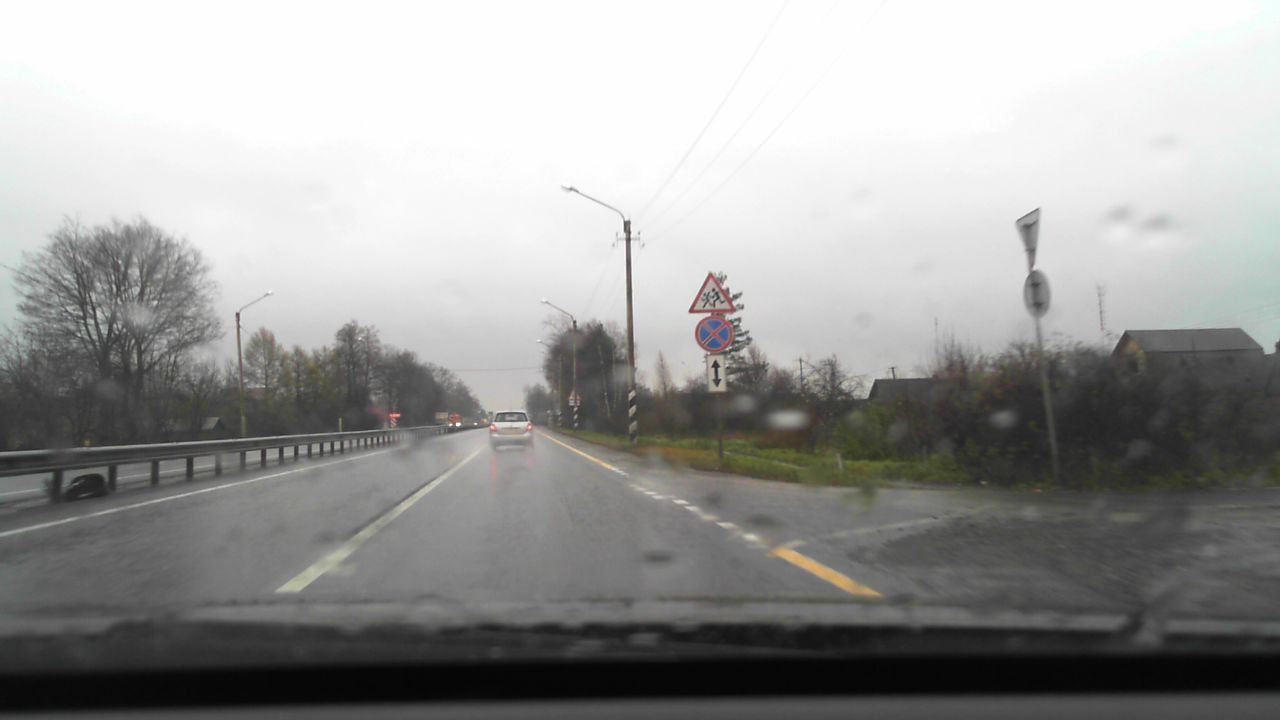No Parking: (695, 316, 733, 352)
